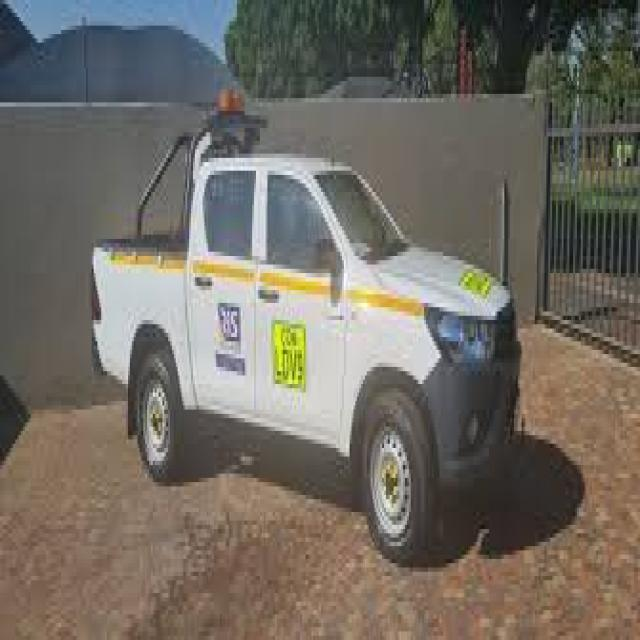light_vehicle: (69, 73, 529, 572)
